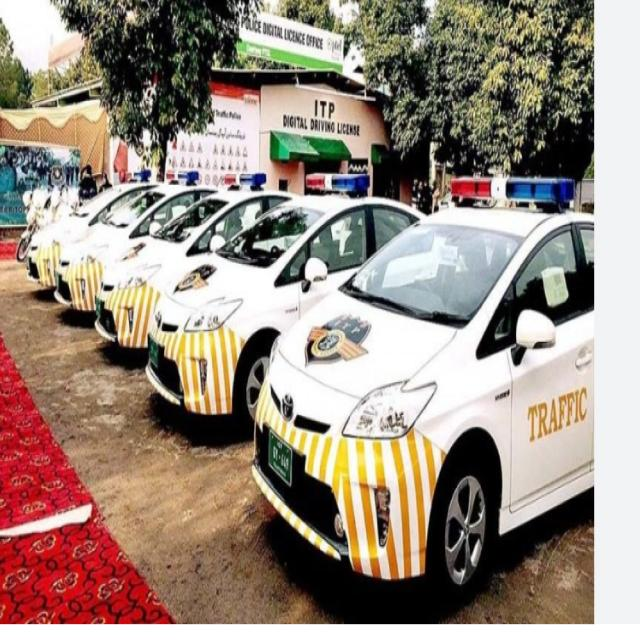police: (245, 185, 602, 572), (98, 165, 317, 411), (28, 181, 114, 275)
